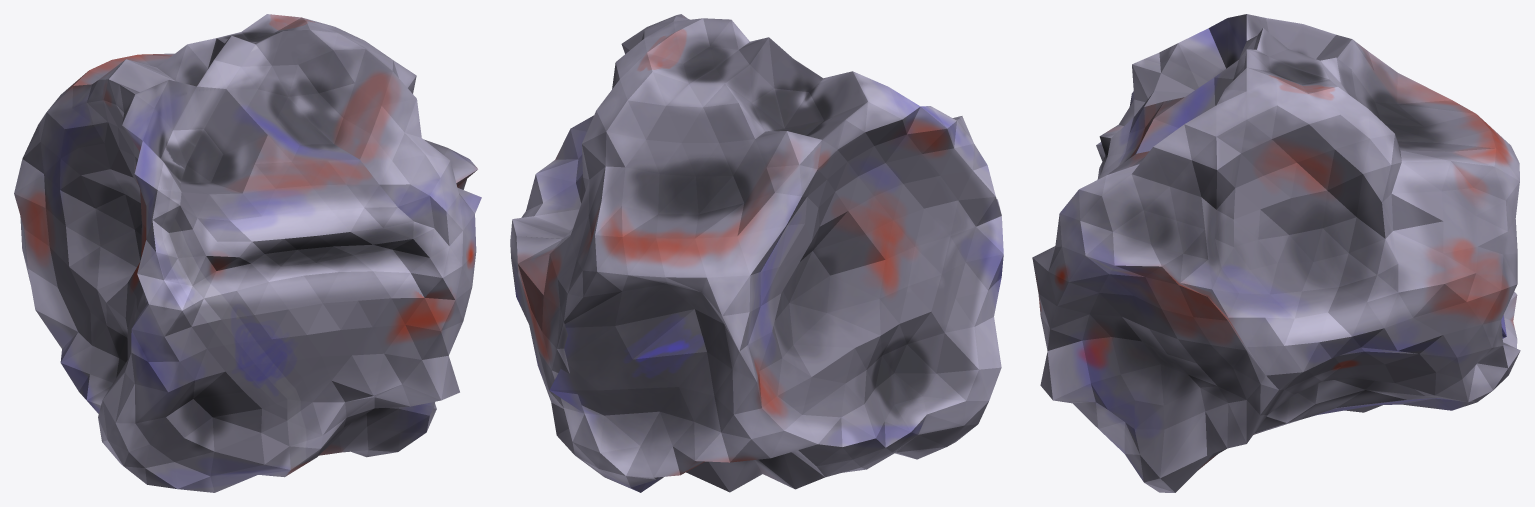
File: Meteor.fbx
3 renders of one model, left to right at view 1: azimuth 30°, elevation 25°; view 2: azimuth 150°, elevation 25°; view 3: azimuth 270°, elevation 25°, orthographic. The views are drawn at different scales.
Visible parts, largest first — view 1: Icosphere; view 2: Icosphere; view 3: Icosphere.
Part boxes in pixels (box(x1,y1,x2,y2)): Icosphere: box(14, 14, 481, 492); Icosphere: box(510, 14, 1003, 492); Icosphere: box(1032, 14, 1520, 492).
Size of the model in its own units: 193 by 195 by 208.
Materials: 1 (1 with a texture image).
